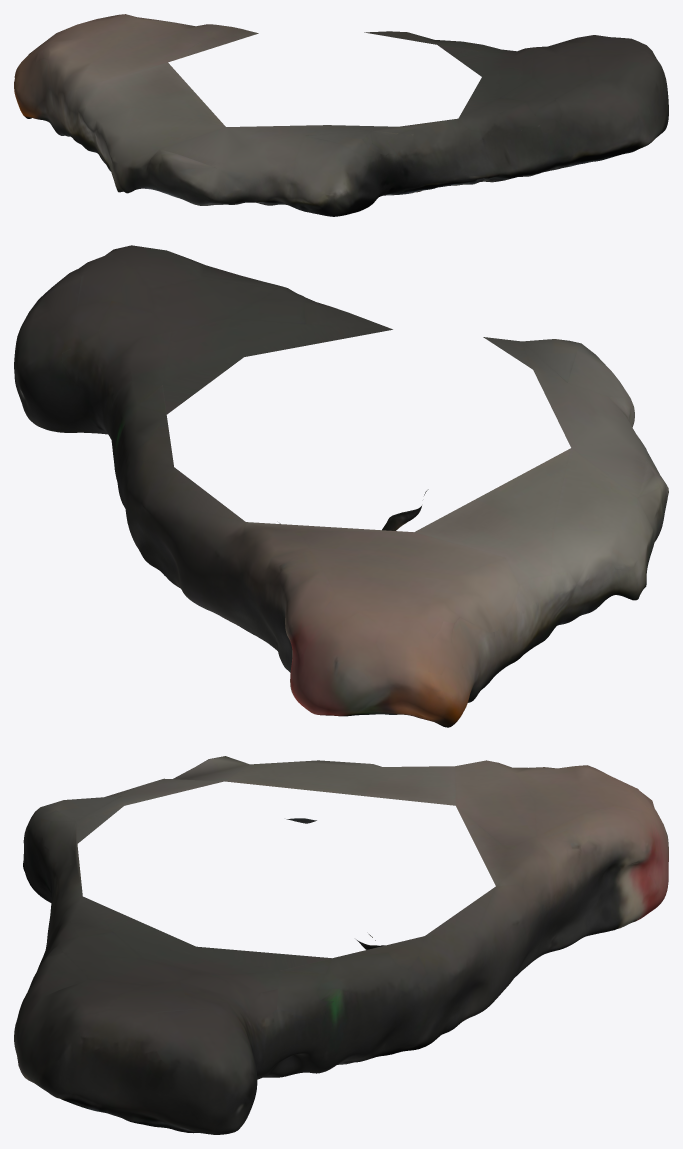
3 renders of one model, top to bottom at view 1: azimuth 30°, elevation 25°; view 2: azimuth 150°, elevation 25°; view 3: azimuth 270°, elevation 25°, orthographic. The views are drawn at different scales.
Size of the model in its own units: 0.7945 by 0.1836 by 0.6871.
Materials: 1 (1 with a texture image).
